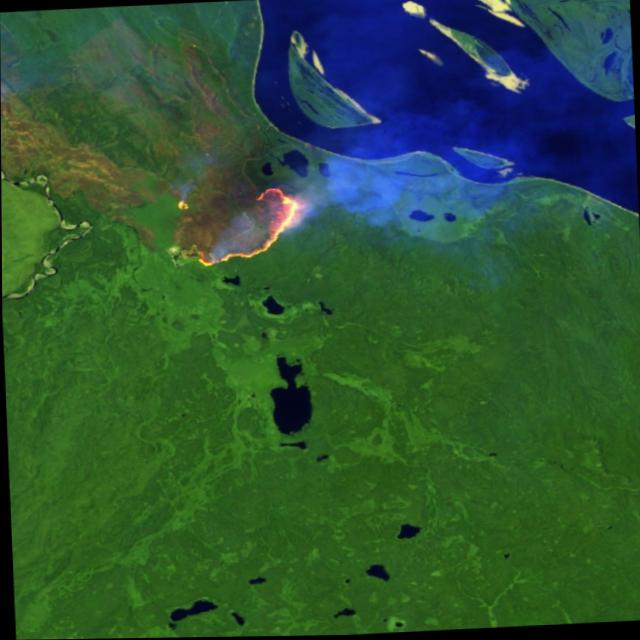fire: (164, 180, 301, 275)
